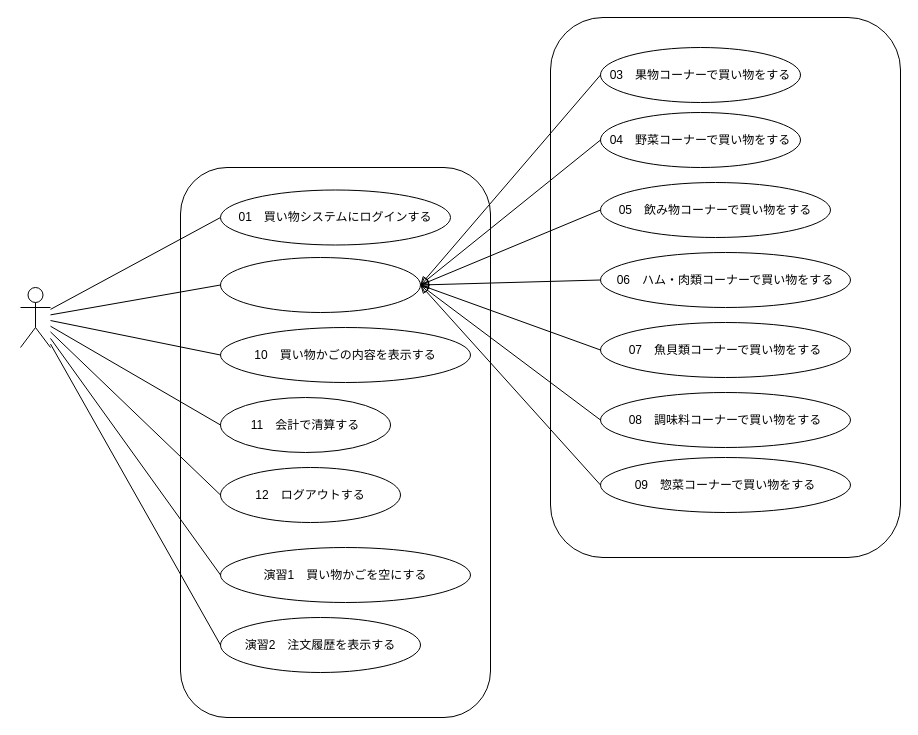
Image size: 918x735. Some labels were removed from this diagram. Each missing label, with the centre of its shape:
"02 各コーナーで買い物をする" belongs at point (320, 284).
"ユーザ" belongs at point (35, 317).
